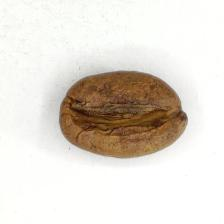NG: (69, 88, 179, 145)
